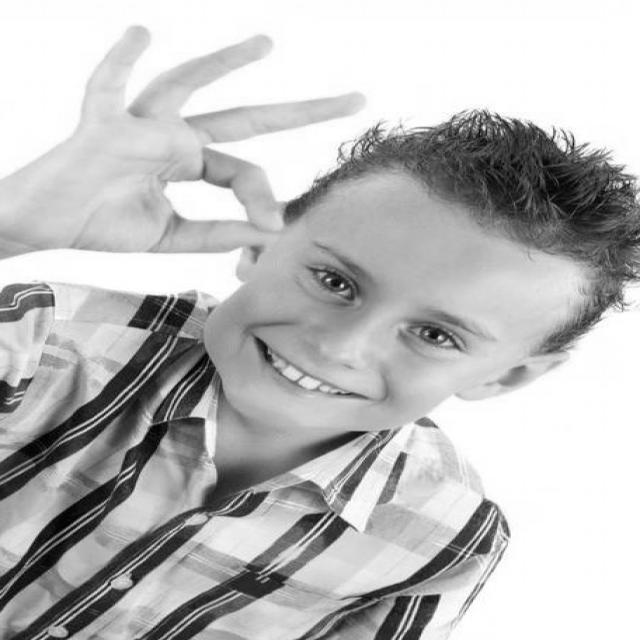perfect: (0, 17, 379, 261)
